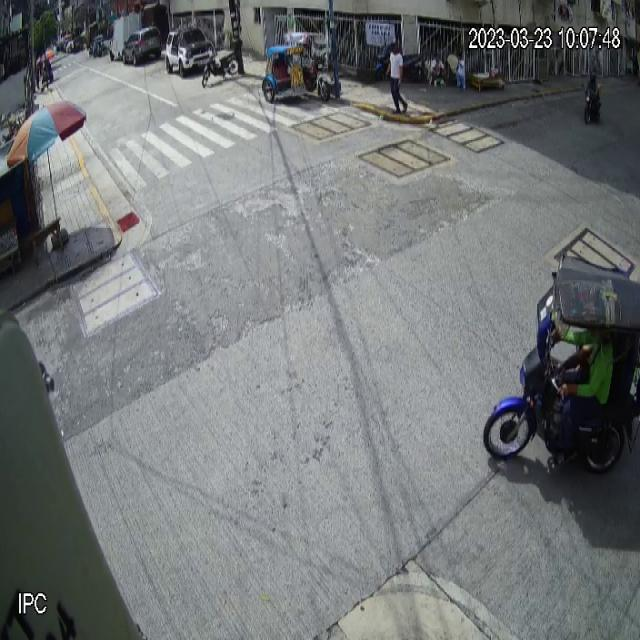Tricycle: (483, 254, 640, 476), (262, 32, 331, 104)
